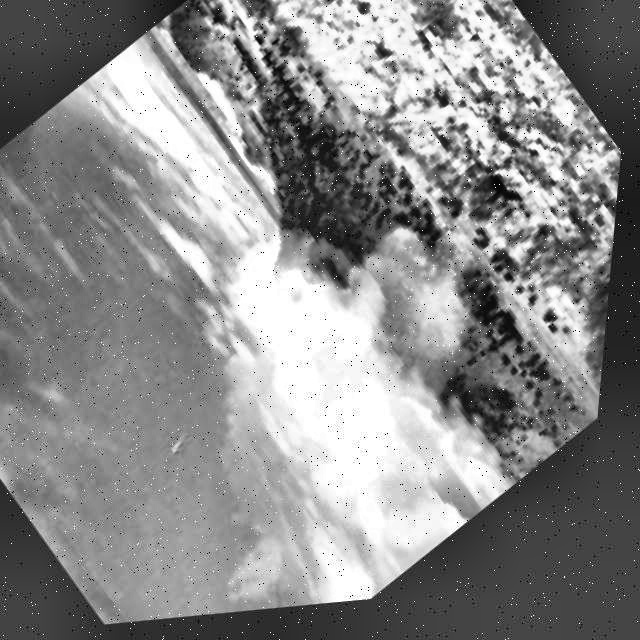Smoke: (80, 131, 608, 618)
